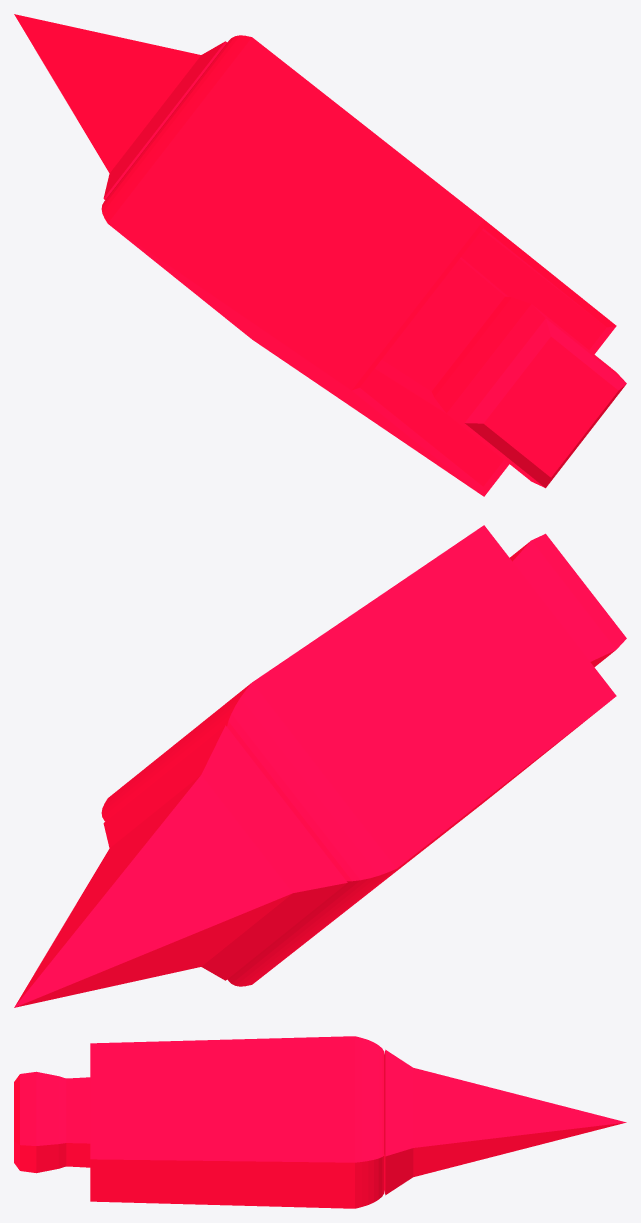
Rendered from Projectile01.fbx.
3 renders of one model, top to bottom at view 1: azimuth 30°, elevation 25°; view 2: azimuth 150°, elevation 25°; view 3: azimuth 270°, elevation 25°, orthographic. The views are drawn at different scales.
Visible parts, largest first — view 1: Cube; view 2: Cube; view 3: Cube.
Part boxes in pixels (x1,y1,x2,y2): Cube: (14,14,626,496); Cube: (14,525,626,1007); Cube: (14,1036,626,1208).
Bounding box in the file's own units: 242 × 242 × 780.
